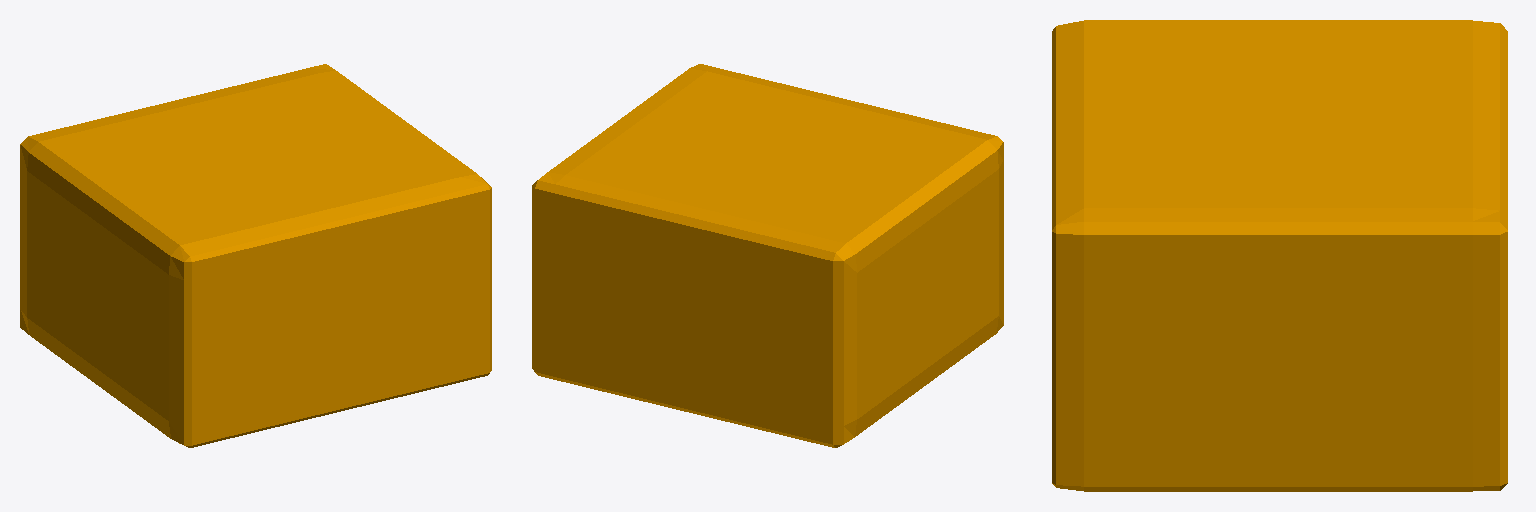
The robot description file, URDF, robot "cylinder_box_16":
<?xml version="1.0" encoding="utf-8"?>  <robot name="cylinder_box_16">   <link name="cylinder_box_16">     <visual>       <geometry>         <mesh filename="../meshes/box/box_16.stl" scale="1 1 1"/>       </geometry>     </visual>     <collision>       <geometry>         <mesh filename="../meshes/box/box_16.stl" scale="1 1 1"/>       </geometry>     </collision>     <inertial>        <origin         xyz="0 0 0"         rpy="0 0 0" />       <mass value="0.39705284744565955"/>       <origin rpy="0 0 0" xyz="0 0 0"/>       <inertia ixx="0.00031805900180001666" ixy="-2.6527691986768997e-08" ixz="1.0360673953753295e-07" iyy="0.00036064086183954555" iyz="6.500911537970077e-09" izz="0.0004871342848033949"/>     </inertial>   </link>  </robot>

--- Facts derived from the render (not from the file) ---
Views: 3 orthographic renders of the robot side by side, from view 1: azimuth 30°, elevation 25°; view 2: azimuth 150°, elevation 25°; view 3: azimuth 270°, elevation 25°.
Robot: cylinder_box_16 — 1 links, 0 joints (none); root link cylinder_box_16; default pose: all joints at 0.
Links seen in each view (by area): view 1: cylinder_box_16; view 2: cylinder_box_16; view 3: cylinder_box_16.
Boxes of the visible links, <box> form: cylinder_box_16: <box>20,64,491,447</box>; cylinder_box_16: <box>532,64,1003,447</box>; cylinder_box_16: <box>1052,20,1507,491</box>.
Size in the robot's own frame: 0.0899 by 0.0823 by 0.0541 metres.
1 mesh visuals loaded from 1 distinct referenced files (1 binary STL).